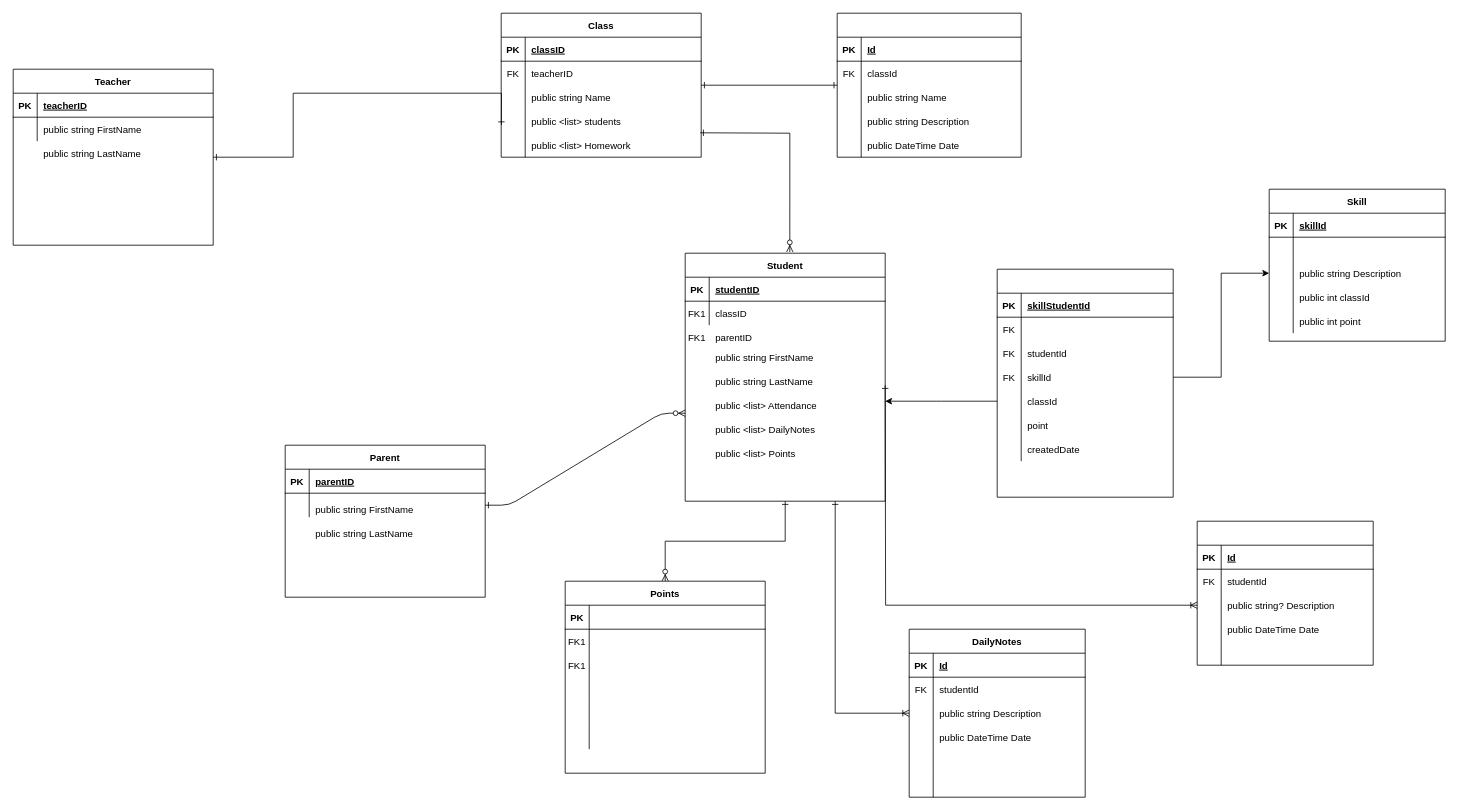
The diagram is 1458 pixels wide and 810 high, and some of its shapes have lost their labels. Each missing label, with the box of its shape:
Attendance: (1196, 520, 1373, 665)
Homework: (836, 12, 1021, 157)
StudentSkill: (996, 268, 1173, 497)
